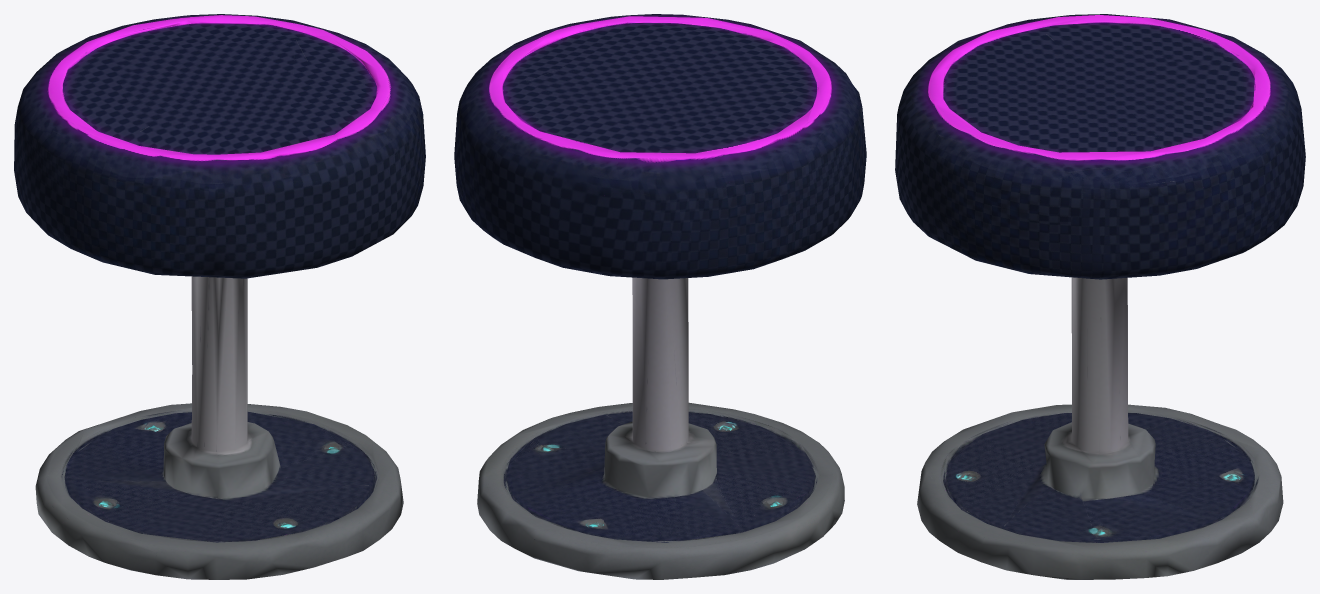
Rendered from banqueta.glb.
3 renders of one model, left to right at view 1: azimuth 30°, elevation 25°; view 2: azimuth 150°, elevation 25°; view 3: azimuth 270°, elevation 25°, orthographic.
Size of the model in its own units: 1.78 by 2 by 1.78.
Materials: 1 (1 with a texture image).
